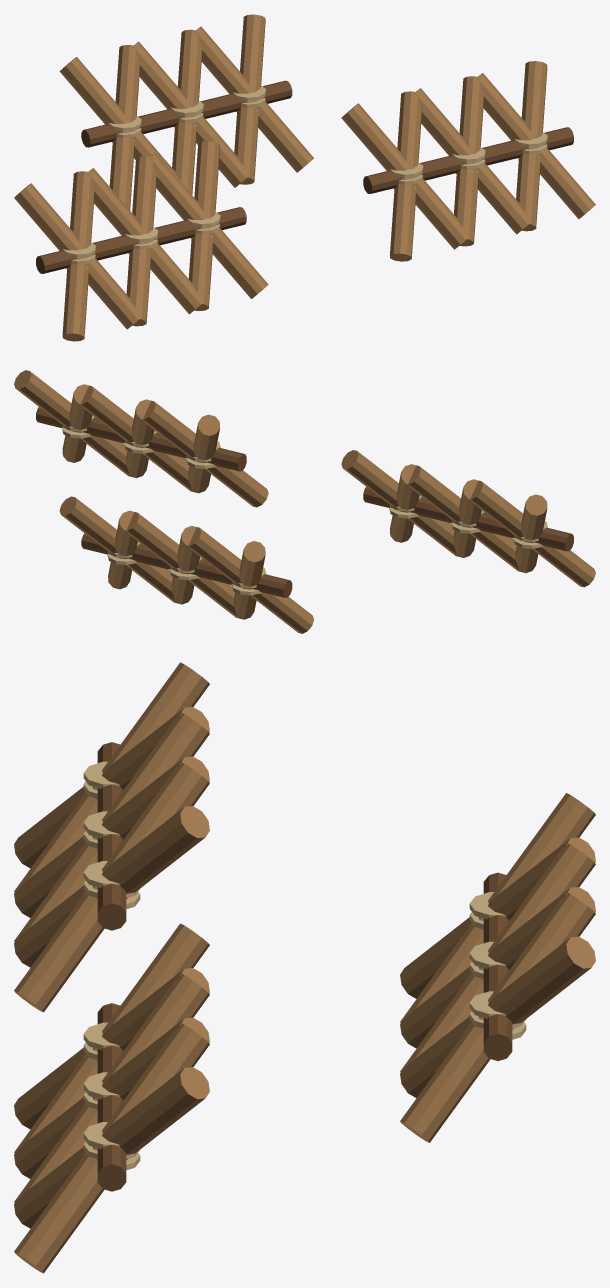
The model's file is field-palisade.glb.
The picture shows the model from 3 angles, top to bottom: view 1: azimuth 30°, elevation 25°; view 2: azimuth 150°, elevation 25°; view 3: azimuth 270°, elevation 25°; orthographic projection. The views are drawn at different scales.
Parts seen in each view (by area): view 1: cross_log_0_-1, cross_log_0_-1.002, cross_log_0_1, cross_log_0_1.002, cross_log_2_-1.002, cross_log_2_-1, cross_log_2_-1.001, cross_log_1_-1.002, cross_log_1_-1, cross_log_2_1.001, cross_log_2_1.002, cross_log_2_1 (+9 smaller); view 2: cross_log_0_1.001, cross_log_0_1, cross_log_0_1.002, cross_log_2_1.002, cross_log_2_1.001, cross_log_2_1, cross_log_1_1, cross_log_1_1.002, cross_log_1_1.001, continuous_spine.001, continuous_spine, continuous_spine.002 (+9 smaller); view 3: cross_log_2_-1.001, cross_log_2_-1, cross_log_2_-1.002, cross_log_2_1.002, cross_log_2_1, cross_log_2_1.001, cross_log_0_-1.002, cross_log_0_-1, cross_log_0_-1.001, cross_log_1_-1, cross_log_1_-1.002, cross_log_1_-1.001 (+9 smaller).
Part boxes in pixels (x1=…): cross_log_0_-1: x1=14, y1=183, x2=139, y2=329; cross_log_0_-1.002: x1=341, y1=103, x2=466, y2=249; cross_log_0_1: x1=62, y1=171, x2=94, y2=341; cross_log_0_1.002: x1=390, y1=91, x2=421, y2=261; cross_log_2_-1.002: x1=476, y1=73, x2=595, y2=219; cross_log_2_-1: x1=149, y1=153, x2=268, y2=298; cross_log_2_-1.001: x1=195, y1=26, x2=313, y2=172; cross_log_1_-1.002: x1=414, y1=88, x2=529, y2=234; cross_log_1_-1: x1=87, y1=168, x2=201, y2=314; cross_log_2_1.001: x1=234, y1=14, x2=265, y2=184; cross_log_2_1.002: x1=516, y1=61, x2=547, y2=231; cross_log_2_1: x1=188, y1=141, x2=220, y2=310; cross_log_0_1.001: x1=188, y1=527, x2=313, y2=633; cross_log_0_1: x1=470, y1=480, x2=595, y2=587; cross_log_0_1.002: x1=143, y1=400, x2=268, y2=507; cross_log_2_1.002: x1=14, y1=370, x2=132, y2=476; cross_log_2_1.001: x1=59, y1=496, x2=178, y2=603; cross_log_2_1: x1=341, y1=450, x2=460, y2=556; cross_log_1_1: x1=408, y1=465, x2=522, y2=571; cross_log_1_1.002: x1=80, y1=385, x2=195, y2=492; cross_log_1_1.001: x1=126, y1=512, x2=240, y2=618; continuous_spine.001: x1=81, y1=533, x2=292, y2=597; continuous_spine: x1=363, y1=487, x2=573, y2=551; continuous_spine.002: x1=36, y1=407, x2=246, y2=471; cross_log_2_-1.001: x1=400, y1=892, x2=595, y2=1142; cross_log_2_-1: x1=14, y1=761, x2=209, y2=1012; cross_log_2_-1.002: x1=14, y1=1022, x2=209, y2=1273; cross_log_2_1.002: x1=14, y1=1067, x2=209, y2=1228; cross_log_2_1: x1=14, y1=806, x2=209, y2=967; cross_log_2_1.001: x1=400, y1=936, x2=595, y2=1097; cross_log_0_-1.002: x1=14, y1=923, x2=209, y2=1153; cross_log_0_-1: x1=14, y1=662, x2=209, y2=892; cross_log_0_-1.001: x1=400, y1=793, x2=595, y2=1022; cross_log_1_-1: x1=14, y1=712, x2=209, y2=941; cross_log_1_-1.002: x1=14, y1=973, x2=209, y2=1202; cross_log_1_-1.001: x1=400, y1=842, x2=595, y2=1072.
Bounding box in the file's own units: 0.7796 × 0.1746 × 0.4523.
